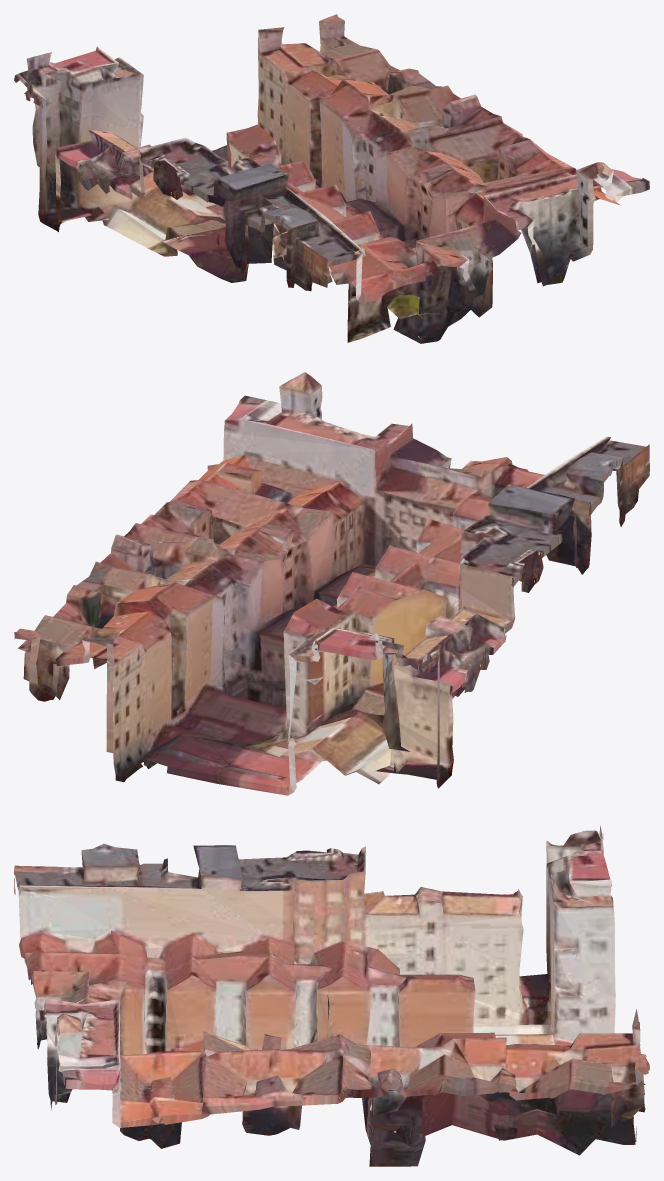
3 renders of one model, top to bottom at view 1: azimuth 30°, elevation 25°; view 2: azimuth 150°, elevation 25°; view 3: azimuth 270°, elevation 25°, orthographic. The views are drawn at different scales.
Parts seen in each view (by area): view 1: Mesh_0; view 2: Mesh_0; view 3: Mesh_0.
Boxes of the visible parts, <box> form: Mesh_0: <box>14,14,649,343</box>; Mesh_0: <box>14,372,649,795</box>; Mesh_0: <box>14,825,649,1166</box>.
Size of the model in its own units: 66.56 by 31.51 by 82.62.
2 materials, 2 textured.
